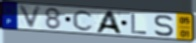8: (44, 7, 63, 31)
A: (94, 10, 124, 35)
C: (71, 9, 95, 32)
L: (130, 13, 149, 35)
S: (154, 14, 175, 38)
V: (17, 3, 44, 30)
